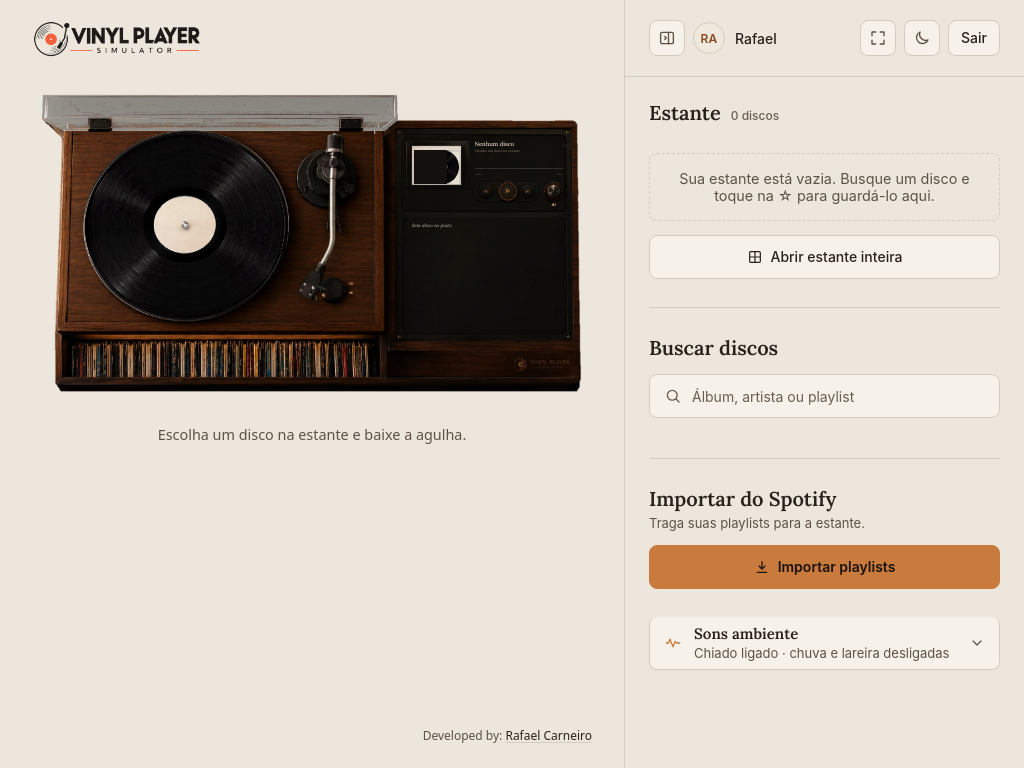
it: App › T32: Sons começa recolhido e abre ao clicar, sem desmontar os controles
Click the button "Sons ambiente Chiado ligado · chuva e lareira desligadas" at (824, 643), box left=650, top=617, right=999, bottom=669
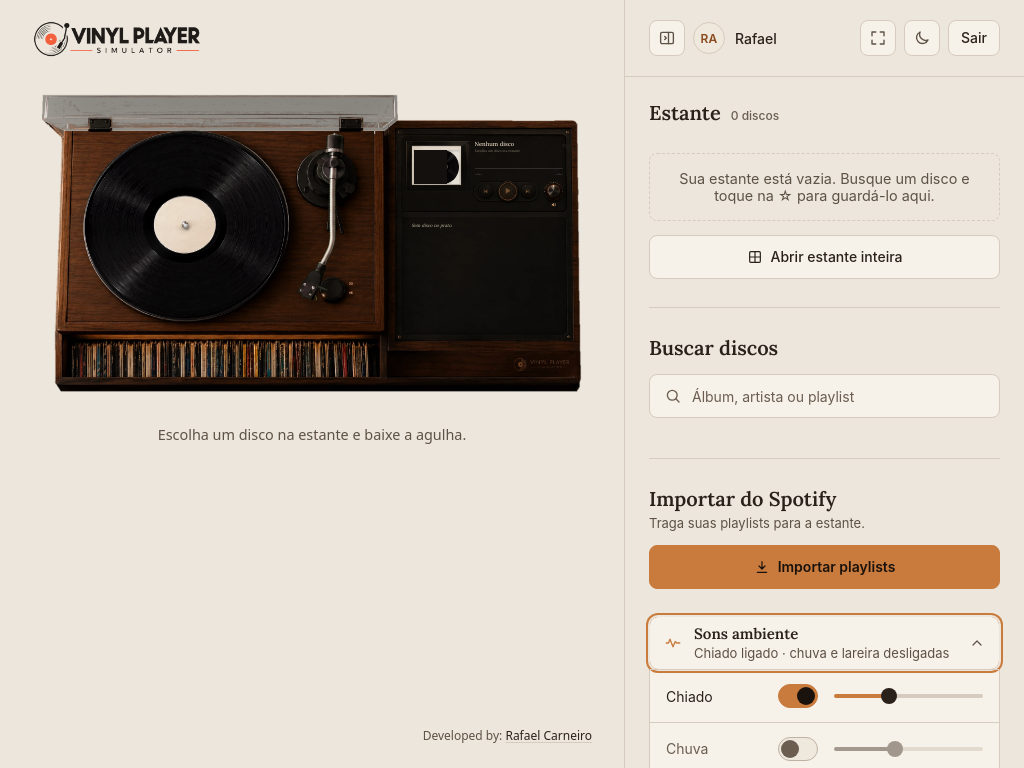
Check: the button "Sons ambiente Chiado ligado · chuva e lareira desligadas" is expanded, box left=650, top=617, right=999, bottom=669
Check: the switch named "Chiado" is shown, box left=778, top=684, right=818, bottom=708
